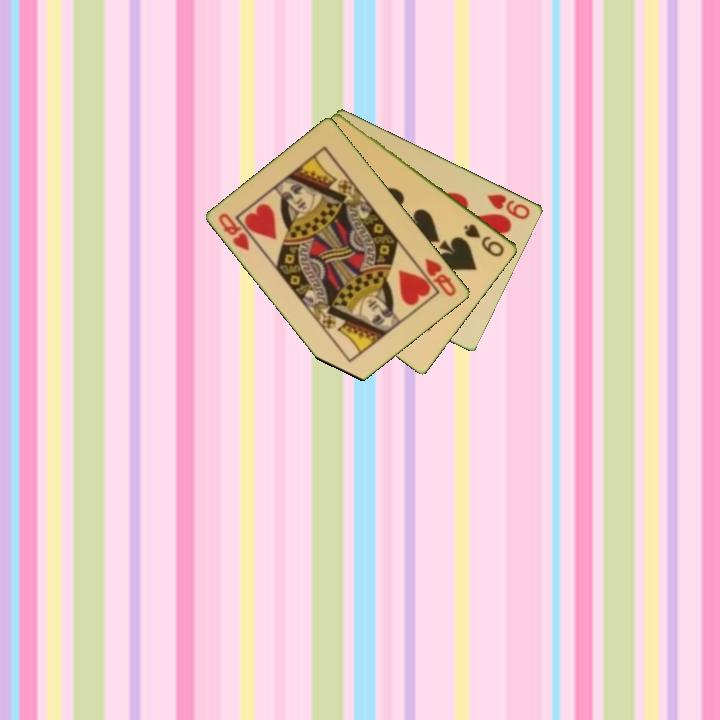9h: (484, 190, 533, 222)
9s: (460, 220, 508, 260)
Qh: (215, 209, 253, 254), (422, 255, 460, 299)
